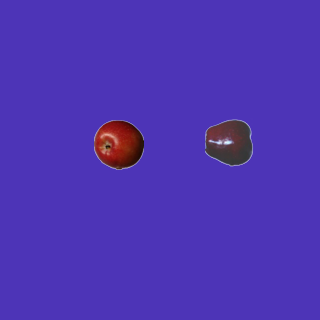Apple Braeburn: (93, 119, 143, 169)
Apple Red Delicious: (204, 117, 254, 167)
